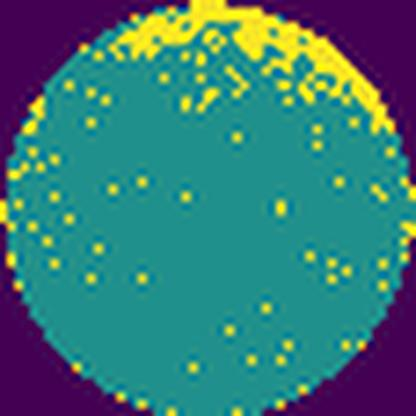Edge-Loc: (102, 0, 415, 140)
